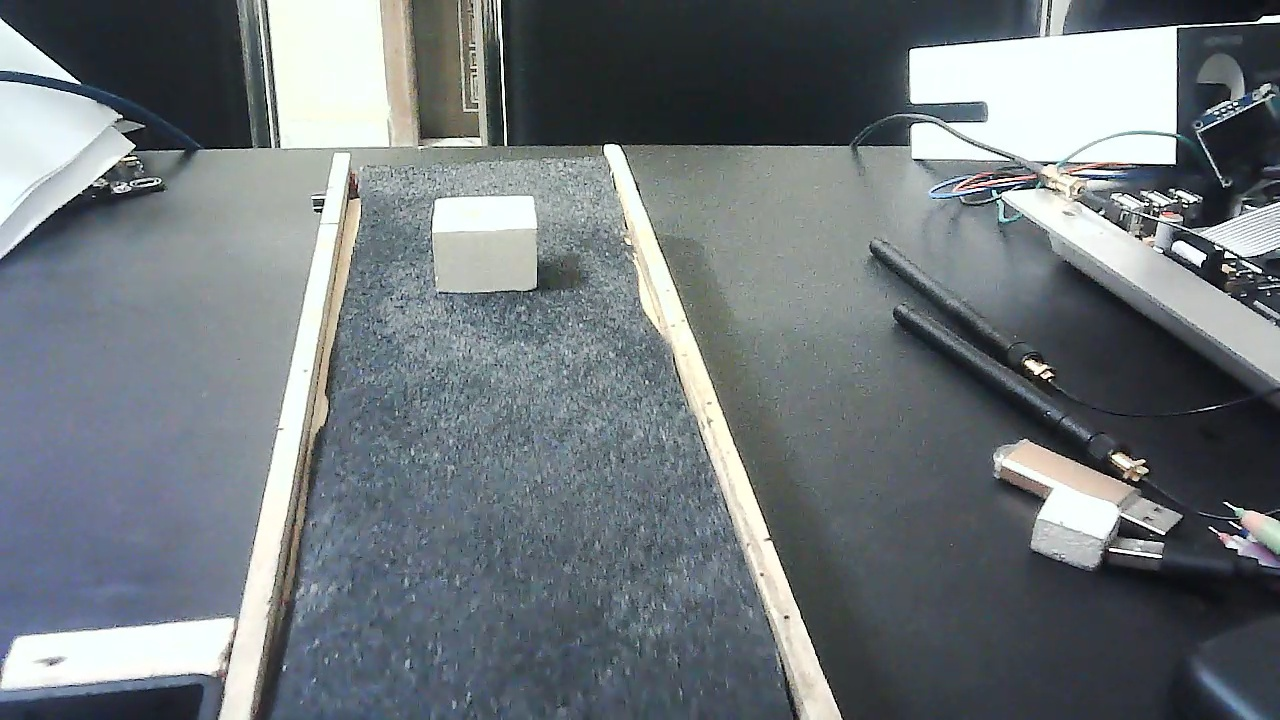Medium: (433, 192, 538, 297)
